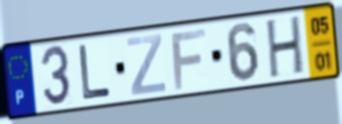3: (37, 42, 73, 111)
6: (224, 20, 260, 85)
F: (169, 26, 208, 93)
H: (265, 13, 306, 82)
L: (78, 43, 114, 104)
Z: (124, 32, 168, 98)
